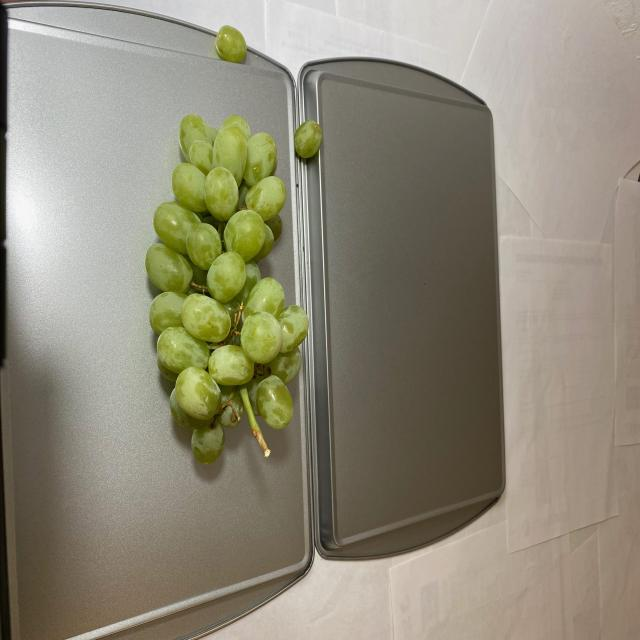grapes: (156, 106, 322, 478), (212, 18, 249, 68)
